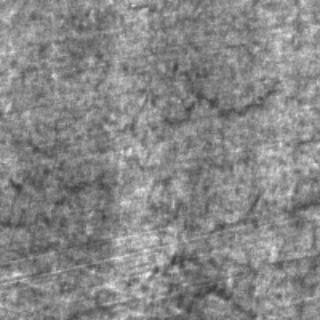crazing: (114, 43, 300, 137), (0, 136, 108, 294), (136, 215, 304, 315)
